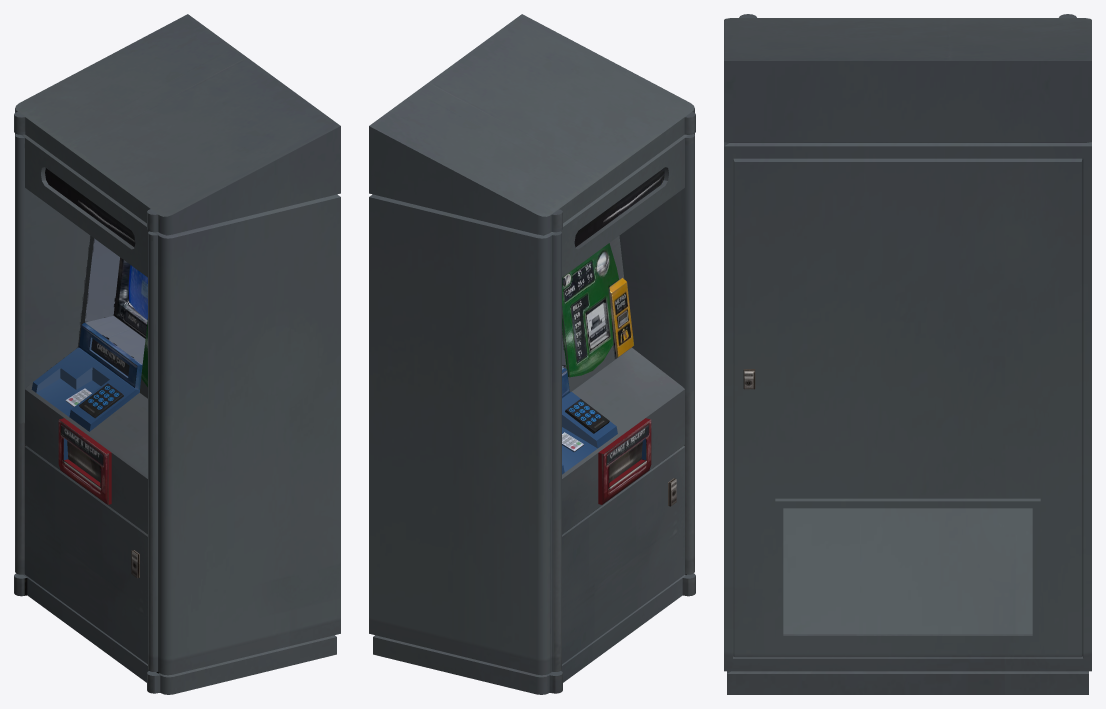
Rendered from TicketMachine02.FBX.
3 renders of one model, left to right at view 1: azimuth 30°, elevation 25°; view 2: azimuth 150°, elevation 25°; view 3: azimuth 270°, elevation 25°, orthographic. The views are drawn at different scales.
Visible parts, largest first — view 1: TicketMachine02; view 2: TicketMachine02; view 3: TicketMachine02.
Boxes of the visible parts, <box> form: TicketMachine02: <box>14,14,340,694</box>; TicketMachine02: <box>369,14,695,694</box>; TicketMachine02: <box>724,14,1091,694</box>.
Size of the model in its own units: 967 by 2589 by 1358.
